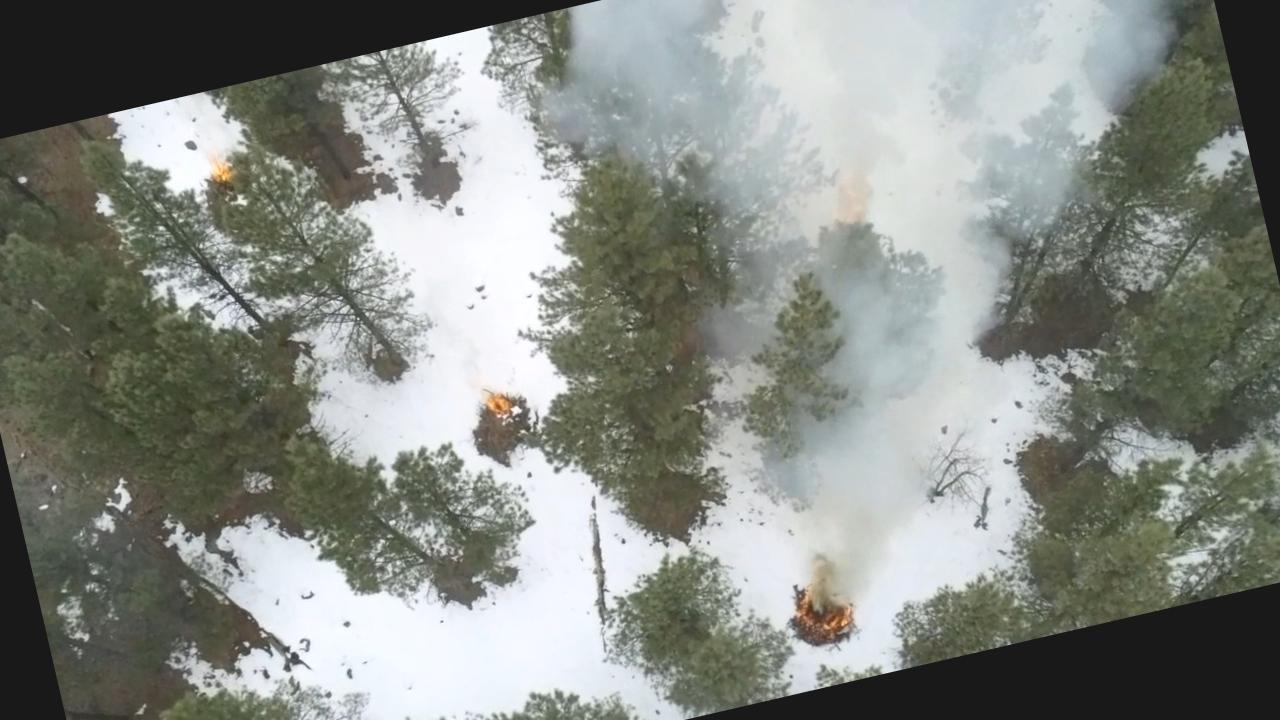fire: (776, 548, 872, 648), (472, 367, 520, 424)
smoke: (732, 0, 1187, 293), (541, 0, 781, 224), (790, 268, 985, 437)
